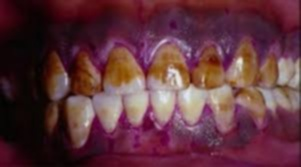Tooth Discoloration: (76, 39, 280, 94), (42, 52, 71, 101), (235, 85, 266, 124), (210, 94, 235, 115)
